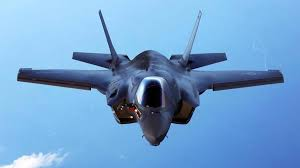fighter: (14, 6, 286, 149)
